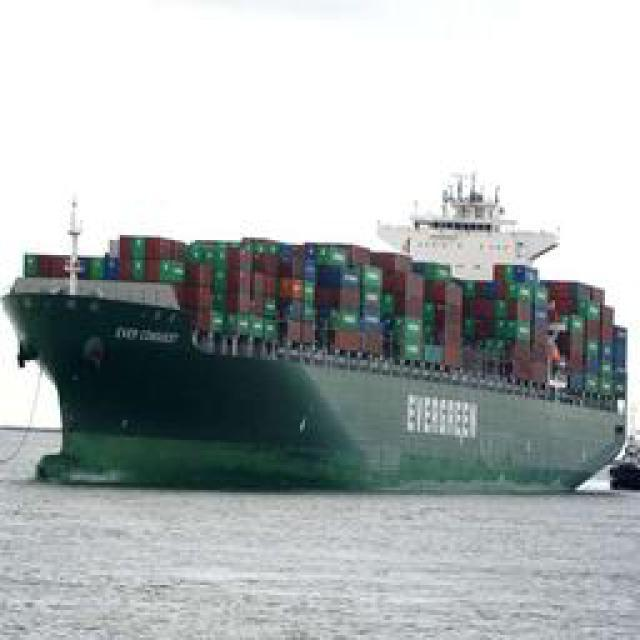Ship: (5, 151, 640, 512)
